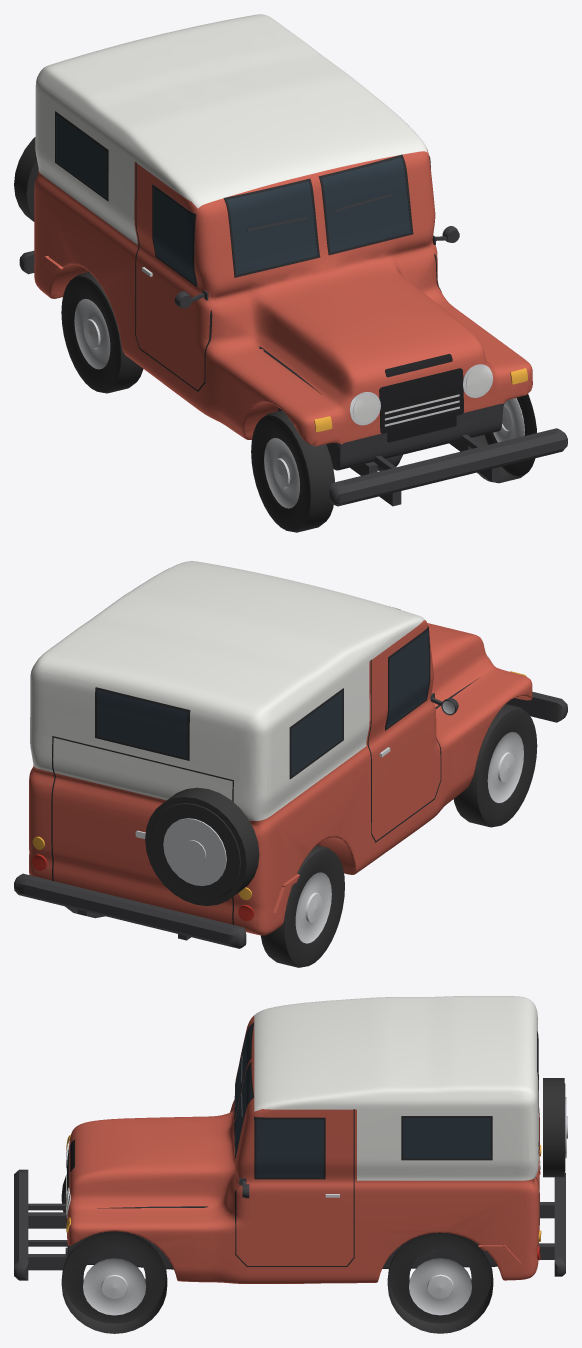
The picture shows the model from 3 angles, top to bottom: view 1: azimuth 30°, elevation 25°; view 2: azimuth 150°, elevation 25°; view 3: azimuth 270°, elevation 25°; orthographic projection. The views are drawn at different scales.
Parts seen in each view (by area): view 1: paint, trim, glass, wheel_fr, wheel_rr, wheel_fl, headlights, mirrors; view 2: paint, trim, glass, wheel_fr, wheel_rr; view 3: paint, trim, glass, wheel_fl, wheel_rl.
Part boxes in pixels (box(x1,y1,x2,y2)): paint: box(34, 14, 532, 470); trim: box(14, 111, 567, 506); glass: box(56, 114, 410, 283); wheel_fr: box(251, 410, 334, 532); wheel_rr: box(61, 272, 143, 393); wheel_fl: box(473, 394, 536, 483); headlights: box(353, 367, 490, 422); mirrors: box(174, 226, 459, 308); paint: box(29, 561, 532, 935); trim: box(14, 607, 567, 948); glass: box(97, 630, 428, 775); wheel_fr: box(453, 704, 537, 827); wheel_rr: box(260, 845, 344, 967); paint: box(67, 996, 539, 1283); trim: box(14, 1022, 567, 1280); glass: box(235, 1025, 538, 1177); wheel_fl: box(61, 1231, 167, 1333); wheel_rl: box(387, 1232, 493, 1333).
Size of the model in its own units: 1.96 by 1.93 by 3.88.
